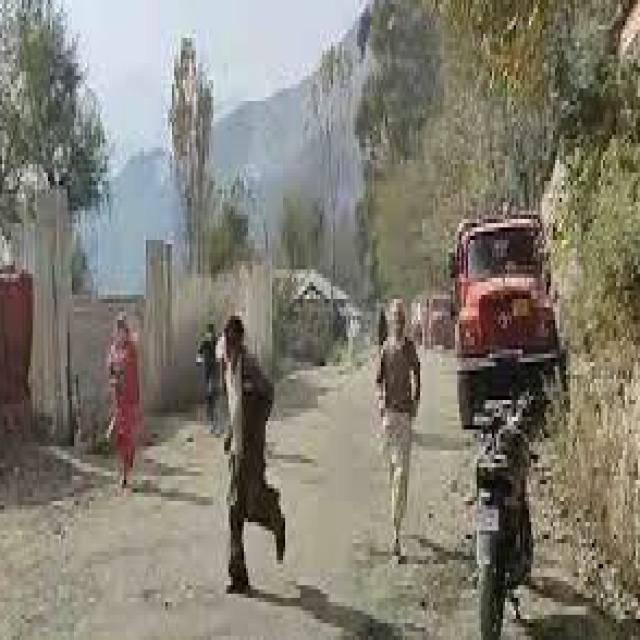civilian: (216, 316, 283, 589), (377, 299, 418, 560), (107, 312, 137, 484)
